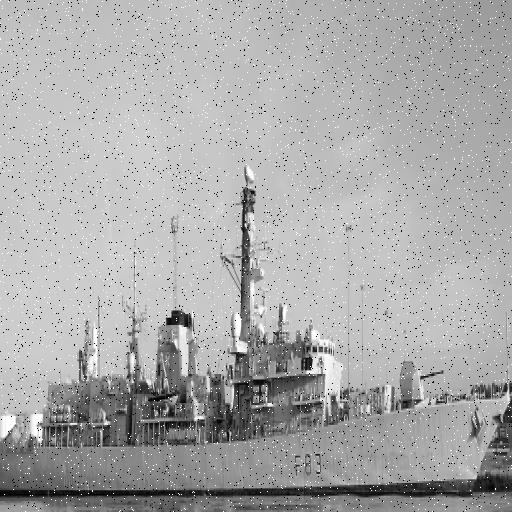Fragata: (1, 165, 512, 501)
